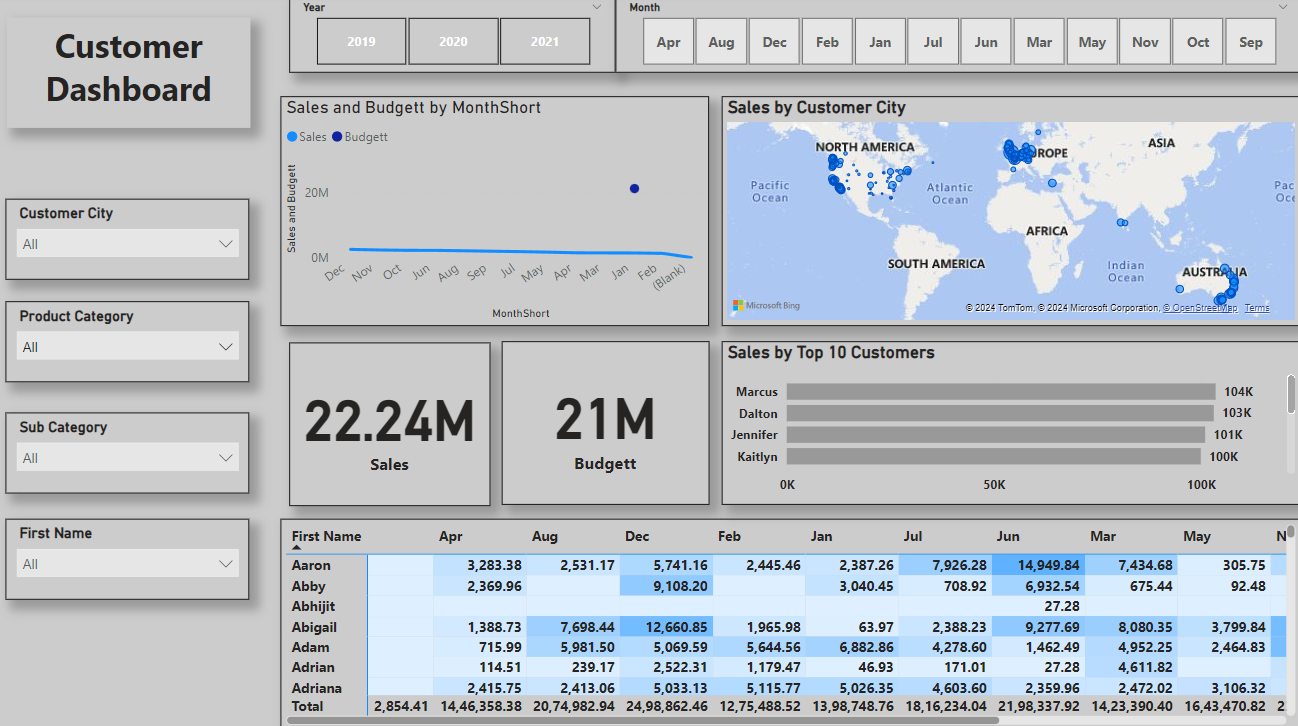

What the dashboard file says about the page in this screenshot:
{"tool":"powerbi","page":{"name":"Customer","canvas":[1280,720],"ordinal":2},"visuals":[{"type":"textbox","box":[13.5,22,238.5,107.6],"z":0},{"type":"slicer","fields":{"Values":["DIM_Calendar.Year"]},"box":[289.8,0,319.2,75.8],"z":1000},{"type":"slicer","fields":{"Values":["DIM_Calendar.MonthShort"]},"box":[609,0,671.3,75.8],"z":2000},{"type":"slicer","fields":{"Values":["DIM_Customers.Customer City"]},"box":[12.2,199.3,238.5,79.5],"z":3000},{"type":"slicer","fields":{"Values":["DIM_Products.Product Category"]},"box":[12.2,299.6,238.5,79.5],"z":4000},{"type":"slicer","fields":{"Values":["DIM_Products.Sub Category"]},"box":[12.2,408.4,238.5,79.5],"z":5000},{"type":"slicer","fields":{"Values":["DIM_Customers.First Name"]},"box":[12.2,512.4,238.5,79.5],"z":6000},{"type":"lineChart","fields":{"Category":["DIM_Calendar.MonthShort"],"Y":["Metrics.Sales","Metrics.Budgett"]},"box":[281.3,99,419.4,225],"z":7000},{"type":"card","fields":{"Values":["Metrics.Sales"]},"box":[289.8,339.9,196.9,160.2],"z":11000},{"type":"card","fields":{"Values":["Metrics.Budgett"]},"box":[497.7,338.7,203,160.2],"z":12000},{"type":"pivotTable","fields":{"Values":["Metrics.Sales"],"Columns":["DIM_Calendar.MonthShort"],"Rows":["DIM_Customers.First Name"]},"box":[281.3,512.4,999.1,207.9],"z":13000},{"type":"barChart","title":"Sales by Top 10 Customers","fields":{"Y":["Metrics.Sales"],"Category":["DIM_Customers.First Name"]},"box":[712.9,338.7,567.4,160.2],"z":13001},{"type":"map","fields":{"Category":["DIM_Customers.Customer City"],"Size":["Metrics.Sales"]},"box":[712.9,99,567.4,225],"z":13002}]}

Visuals, with their boxes in screenshot pixels (x1, y1, x2, y2), scaled from the page's 1280x720 canvas onto the 1298x726 screenshot:
textbox: {"left": 14, "top": 22, "right": 256, "bottom": 131}
slicer - DIM_Calendar.Year: {"left": 294, "top": 0, "right": 618, "bottom": 76}
slicer - DIM_Calendar.MonthShort: {"left": 618, "top": 0, "right": 1297, "bottom": 76}
slicer - DIM_Customers.Customer City: {"left": 12, "top": 201, "right": 254, "bottom": 281}
slicer - DIM_Products.Product Category: {"left": 12, "top": 302, "right": 254, "bottom": 382}
slicer - DIM_Products.Sub Category: {"left": 12, "top": 412, "right": 254, "bottom": 492}
slicer - DIM_Customers.First Name: {"left": 12, "top": 517, "right": 254, "bottom": 597}
lineChart - DIM_Calendar.MonthShort x Metrics.Sales: {"left": 285, "top": 100, "right": 711, "bottom": 327}
card - Metrics.Sales: {"left": 294, "top": 343, "right": 494, "bottom": 504}
card - Metrics.Budgett: {"left": 505, "top": 342, "right": 711, "bottom": 503}
pivotTable - Metrics.Sales x DIM_Calendar.MonthShort: {"left": 285, "top": 517, "right": 1297, "bottom": 725}
"Sales by Top 10 Customers" barChart: {"left": 723, "top": 342, "right": 1297, "bottom": 503}
map - DIM_Customers.Customer City x Metrics.Sales: {"left": 723, "top": 100, "right": 1297, "bottom": 327}
